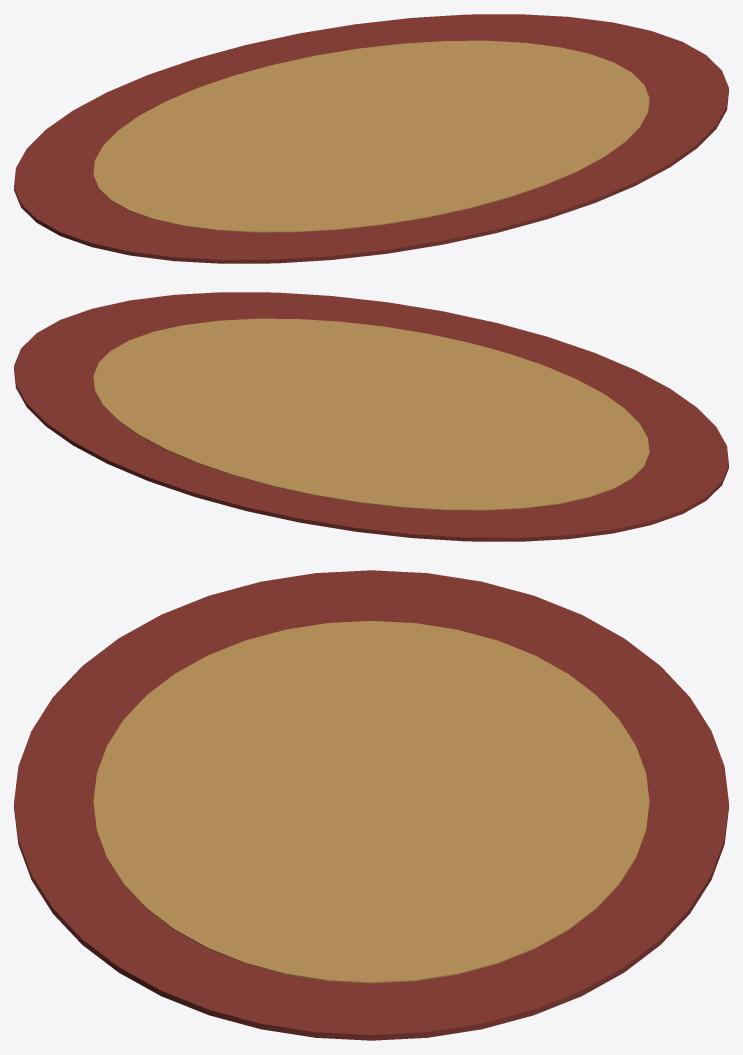
File: rug.glb
3 renders of one model, top to bottom at view 1: azimuth 30°, elevation 25°; view 2: azimuth 150°, elevation 25°; view 3: azimuth 270°, elevation 25°, orthographic. The views are drawn at different scales.
Size of the model in its own units: 1.8 by 0.012 by 1.17.
